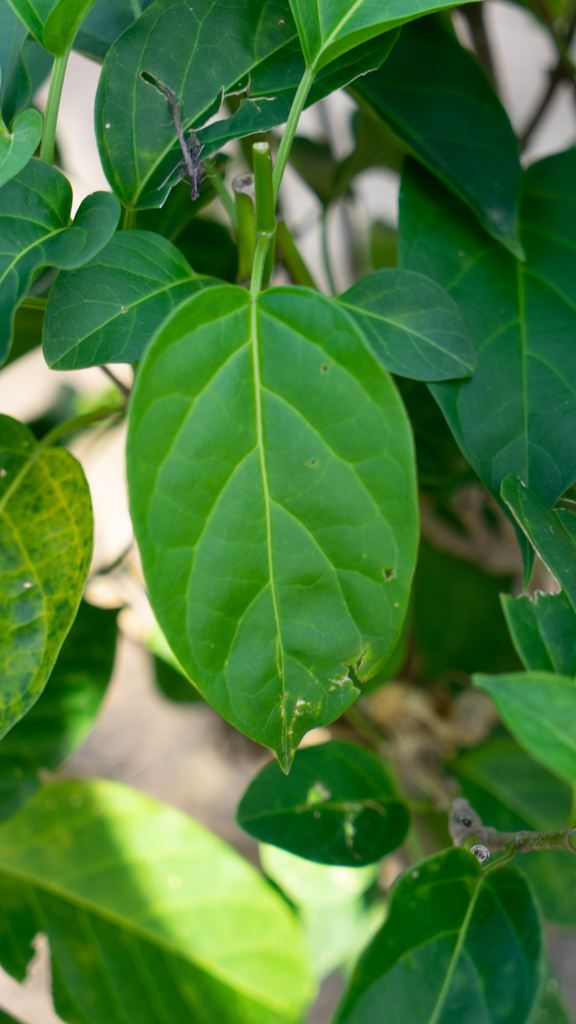Pepper yellow leaf: (3, 437, 96, 740)
frog-eye leafspot: (378, 550, 400, 592), (305, 455, 323, 473), (316, 361, 334, 378)
